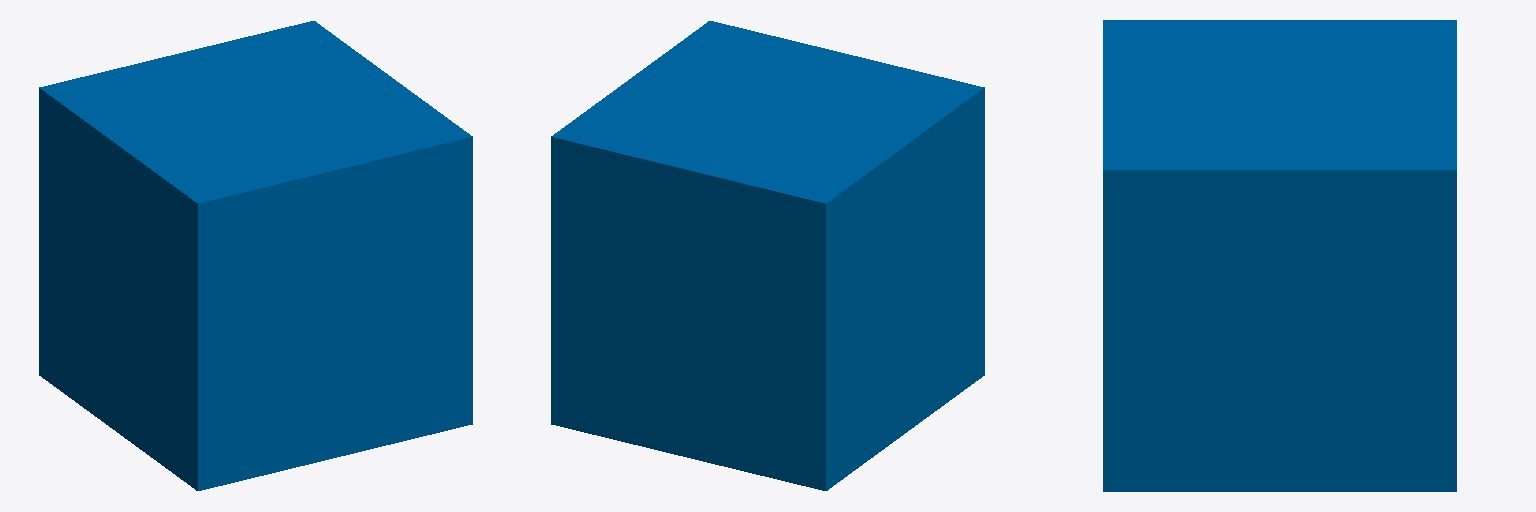
robot.urdf — ur10:
<?xml version="1.0" ?>
<!-- =================================================================================== -->
<!-- |    This document was autogenerated by xacro from urdf/ur10_robot.urdf.xacro     | -->
<!-- |    EDITING THIS FILE BY HAND IS NOT RECOMMENDED                                 | -->
<!-- =================================================================================== -->
<robot name="ur10" xmlns:xacro="http://www.ros.org/wiki/xacro">
  <!-- common stuff -->
  <gazebo>
    <plugin filename="libgazebo_ros_control.so" name="ros_control">
      <!--robotNamespace>/</robotNamespace-->
      <!--robotSimType>gazebo_ros_control/DefaultRobotHWSim</robotSimType-->
    </plugin>
    <!--
    <plugin name="gazebo_ros_power_monitor_controller" filename="libgazebo_ros_power_monitor.so">
      <alwaysOn>true</alwaysOn>
      <updateRate>1.0</updateRate>
      <timeout>5</timeout>
      <powerStateTopic>power_state</powerStateTopic>
      <powerStateRate>10.0</powerStateRate>
      <fullChargeCapacity>87.78</fullChargeCapacity>     
      <dischargeRate>-474</dischargeRate>
      <chargeRate>525</chargeRate>
      <dischargeVoltage>15.52</dischargeVoltage>
      <chargeVoltage>16.41</chargeVoltage>
    </plugin>
-->
  </gazebo>
  <!-- ur10 -->
  <!-- arm -->
  <link name="base_link">
    <visual>
      <geometry>
        <mesh filename="./meshes/visual/Base.dae"/>
      </geometry>
    </visual>
    <collision>
      <geometry>
        <mesh filename="./meshes/collision/Base.dae"/>
      </geometry>
    </collision>
    <inertial>
      <mass value="4.0"/>
      <origin rpy="0 0 0" xyz="0.0 0.0 0.0"/>
      <inertia ixx="0.0061063308908" ixy="0.0" ixz="0.0" iyy="0.0061063308908" iyz="0.0" izz="0.01125"/>
    </inertial>
  </link>
  <joint name="shoulder_pan_joint" type="revolute">
    <parent link="base_link"/>
    <child link="shoulder_link"/>
    <origin rpy="0.0 0.0 0.0" xyz="0.0 0.0 0.1273"/>
    <axis xyz="0 0 1"/>
    <limit effort="330.0" lower="-6.2831853" upper="6.2831853" velocity="2.16"/>
    <dynamics damping="0.0" friction="0.0"/>
  </joint>
  <link name="shoulder_link">
    <visual>
      <geometry>
        <mesh filename="./meshes/visual/Shoulder.dae"/>
      </geometry>
    </visual>
    <collision>
      <geometry>
        <mesh filename="./meshes/collision/Shoulder.dae"/>
      </geometry>
    </collision>
    <inertial>
      <mass value="7.778"/>
      <origin rpy="0 0 0" xyz="0.0 0.0 0.0"/>
      <inertia ixx="0.0314743125769" ixy="0.0" ixz="0.0" iyy="0.0314743125769" iyz="0.0" izz="0.021875625"/>
    </inertial>
  </link>
  <joint name="shoulder_lift_joint" type="revolute">
    <parent link="shoulder_link"/>
    <child link="upper_arm_link"/>
    <origin rpy="0.0 1.570796325 0.0" xyz="0.0 0.220941 0.0"/>
    <axis xyz="0 1 0"/>
    <limit effort="330.0" lower="-6.2831853" upper="6.2831853" velocity="2.16"/>
    <dynamics damping="0.0" friction="0.0"/>
  </joint>
  <link name="upper_arm_link">
    <visual>
      <geometry>
        <mesh filename="./meshes/visual/UpperArm.dae"/>
      </geometry>
    </visual>
    <collision>
      <geometry>
        <mesh filename="./meshes/collision/UpperArm.dae"/>
      </geometry>
    </collision>
    <inertial>
      <mass value="12.93"/>
      <origin rpy="0 0 0" xyz="0.0 0.0 0.306"/>
      <inertia ixx="0.421753803798" ixy="0.0" ixz="0.0" iyy="0.421753803798" iyz="0.0" izz="0.036365625"/>
    </inertial>
  </link>
  <joint name="elbow_joint" type="revolute">
    <parent link="upper_arm_link"/>
    <child link="forearm_link"/>
    <origin rpy="0.0 0.0 0.0" xyz="0.0 -0.1719 0.612"/>
    <axis xyz="0 1 0"/>
    <limit effort="150.0" lower="-6.2831853" upper="6.2831853" velocity="3.15"/>
    <dynamics damping="0.0" friction="0.0"/>
  </joint>
  <link name="forearm_link">
    <visual>
      <geometry>
        <mesh filename="./meshes/visual/Forearm.dae"/>
      </geometry>
    </visual>
    <collision>
      <geometry>
        <mesh filename="./meshes/collision/Forearm.dae"/>
      </geometry>
    </collision>
    <inertial>
      <mass value="3.87"/>
      <origin rpy="0 0 0" xyz="0.0 0.0 0.28615"/>
      <inertia ixx="0.111069694097" ixy="0.0" ixz="0.0" iyy="0.111069694097" iyz="0.0" izz="0.010884375"/>
    </inertial>
  </link>
  <joint name="wrist_1_joint" type="revolute">
    <parent link="forearm_link"/>
    <child link="wrist_1_link"/>
    <origin rpy="0.0 1.570796325 0.0" xyz="0.0 0.0 0.5723"/>
    <axis xyz="0 1 0"/>
    <limit effort="54.0" lower="-6.2831853" upper="6.2831853" velocity="3.2"/>
    <dynamics damping="0.0" friction="0.0"/>
  </joint>
  <link name="wrist_1_link">
    <visual>
      <geometry>
        <mesh filename="./meshes/visual/Wrist1.dae"/>
      </geometry>
    </visual>
    <collision>
      <geometry>
        <mesh filename="./meshes/collision/Wrist1.dae"/>
      </geometry>
    </collision>
    <inertial>
      <mass value="1.96"/>
      <origin rpy="0 0 0" xyz="0.0 0.0 0.0"/>
      <inertia ixx="0.0051082479567" ixy="0.0" ixz="0.0" iyy="0.0051082479567" iyz="0.0" izz="0.0055125"/>
    </inertial>
  </link>
  <joint name="wrist_2_joint" type="revolute">
    <parent link="wrist_1_link"/>
    <child link="wrist_2_link"/>
    <origin rpy="0.0 0.0 0.0" xyz="0.0 0.1149 0.0"/>
    <axis xyz="0 0 1"/>
    <limit effort="54.0" lower="-6.2831853" upper="6.2831853" velocity="3.2"/>
    <dynamics damping="0.0" friction="0.0"/>
  </joint>
  <link name="wrist_2_link">
    <visual>
      <geometry>
        <mesh filename="./meshes/visual/Wrist2.dae"/>
      </geometry>
    </visual>
    <collision>
      <geometry>
        <mesh filename="./meshes/collision/Wrist2.dae"/>
      </geometry>
    </collision>
    <inertial>
      <mass value="1.96"/>
      <origin rpy="0 0 0" xyz="0.0 0.0 0.0"/>
      <inertia ixx="0.0051082479567" ixy="0.0" ixz="0.0" iyy="0.0051082479567" iyz="0.0" izz="0.0055125"/>
    </inertial>
  </link>
  <joint name="wrist_3_joint" type="revolute">
    <parent link="wrist_2_link"/>
    <child link="wrist_3_link"/>
    <origin rpy="0.0 0.0 0.0" xyz="0.0 0.0 0.1157"/>
    <axis xyz="0 1 0"/>
    <limit effort="54.0" lower="-6.2831853" upper="6.2831853" velocity="3.2"/>
    <dynamics damping="0.0" friction="0.0"/>
  </joint>
  <link name="wrist_3_link">
    <visual>
      <geometry>
        <mesh filename="./meshes/visual/Wrist3.dae"/>
      </geometry>
    </visual>
    <collision>
      <geometry>
        <mesh filename="./meshes/collision/Wrist3.dae"/>
      </geometry>
    </collision>
    <inertial>
      <mass value="0.202"/>
      <origin rpy="0 0 0" xyz="0.0 0.0 0.0"/>
      <inertia ixx="0.000526462289415" ixy="0.0" ixz="0.0" iyy="0.000526462289415" iyz="0.0" izz="0.000568125"/>
    </inertial>
  </link>
  <joint name="ee_fixed_joint" type="fixed">
    <parent link="wrist_3_link"/>
    <child link="ee_link"/>
    <origin rpy="0.0 0.0 1.57079632679" xyz="0.0 0.0922 0.0"/>
  </joint>
  <link name="ee_link">
    <collision>
      <geometry>
        <box size="0.01 0.01 0.01"/>
      </geometry>
      <origin rpy="0 0 0" xyz="-0.01 0 0"/>
    </collision>
  </link>
  <transmission name="shoulder_pan_trans">
    <type>transmission_interface/SimpleTransmission</type>
    <joint name="shoulder_pan_joint">
      <hardwareInterface>hardware_interface/PositionJointInterface</hardwareInterface>
    </joint>
    <actuator name="shoulder_pan_motor">
      <mechanicalReduction>1</mechanicalReduction>
    </actuator>
  </transmission>
  <transmission name="shoulder_lift_trans">
    <type>transmission_interface/SimpleTransmission</type>
    <joint name="shoulder_lift_joint">
      <hardwareInterface>hardware_interface/PositionJointInterface</hardwareInterface>
    </joint>
    <actuator name="shoulder_lift_motor">
      <mechanicalReduction>1</mechanicalReduction>
    </actuator>
  </transmission>
  <transmission name="elbow_trans">
    <type>transmission_interface/SimpleTransmission</type>
    <joint name="elbow_joint">
      <hardwareInterface>hardware_interface/PositionJointInterface</hardwareInterface>
    </joint>
    <actuator name="elbow_motor">
      <mechanicalReduction>1</mechanicalReduction>
    </actuator>
  </transmission>
  <transmission name="wrist_1_trans">
    <type>transmission_interface/SimpleTransmission</type>
    <joint name="wrist_1_joint">
      <hardwareInterface>hardware_interface/PositionJointInterface</hardwareInterface>
    </joint>
    <actuator name="wrist_1_motor">
      <mechanicalReduction>1</mechanicalReduction>
    </actuator>
  </transmission>
  <transmission name="wrist_2_trans">
    <type>transmission_interface/SimpleTransmission</type>
    <joint name="wrist_2_joint">
      <hardwareInterface>hardware_interface/PositionJointInterface</hardwareInterface>
    </joint>
    <actuator name="wrist_2_motor">
      <mechanicalReduction>1</mechanicalReduction>
    </actuator>
  </transmission>
  <transmission name="wrist_3_trans">
    <type>transmission_interface/SimpleTransmission</type>
    <joint name="wrist_3_joint">
      <hardwareInterface>hardware_interface/PositionJointInterface</hardwareInterface>
    </joint>
    <actuator name="wrist_3_motor">
      <mechanicalReduction>1</mechanicalReduction>
    </actuator>
  </transmission>
  <!-- ROS base_link to UR 'Base' Coordinates transform -->
  <link name="robot_base"/>
  <joint name="robot_base_link-base_fixed_joint" type="fixed">
    <!-- NOTE: this rotation is only needed as long as base_link itself is
                 not corrected wrt the real robot (ie: rotated over 180
                 degrees)
      -->
    <origin rpy="0 0 -3.14159265359" xyz="0 0 0"/>
    <parent link="base_link"/>
    <child link="robot_base"/>
  </joint>
  <!-- Frame coincident with all-zeros TCP on UR controller -->
  <link name="tool0"/>
  <joint name="wrist_3_link-tool0_fixed_joint" type="fixed">
    <origin rpy="-1.57079632679 0 0" xyz="0 0.0922 0"/>
    <parent link="wrist_3_link"/>
    <child link="tool0"/>
  </joint>

  <link name="robotiq_coupler">
    <visual>
      <geometry>
        <mesh filename="./meshes/robotiq2f85/robotiq_85_coupler.stl" />
      </geometry>
    </visual>
    <collision>
      <geometry>
        <mesh filename="./meshes/robotiq2f85/robotiq_85_coupler.stl" />
      </geometry>
    </collision>
    <inertial>
      <origin xyz="2.073e-05   1.45286e-03  -1.1049e-03" rpy="0 0 0" />
      <mass value="0.168" />
      <inertia ixx="6.69695624e-05" ixy="5.21511788e-09" ixz="-2.74383009e-08" 
              iyy="7.85088161e-05" iyz="5.41105193e-07" izz="1.41819717e-04"/>
    </inertial>
  </link>

  <joint name="robotiq_coupler_joint" type="fixed">
    <origin xyz="0 0 0.004" rpy="0 0 -1.57079632679" />
    <parent link="tool0"/>
    <child link="robotiq_coupler"/>
  </joint>


  <!-- Robotiq: base_link -->
  <link name="robotiq_85_base_link">
    <visual>
      <geometry>
        <!-- <mesh filename="./meshes/robotiq2f85/visual/robotiq_85_base_link.dae"/> -->
        <mesh filename="./meshes/robotiq2f85/visual/robotiq_85_base_link.dae"/>
      </geometry>
    </visual>
    <collision>
      <geometry>
        <mesh filename="./meshes/robotiq2f85/collision/robotiq_85_base_link.stl"/>
      </geometry>
    </collision>
    <inertial>
      <mass value="0.636951" />
      <origin xyz="0.0 0.0 0.0" />
      <inertia ixx = "0.000380" ixy = "0.000000" ixz = "0.000000"
          iyx = "0.000000" iyy = "0.001110" iyz = "0.000000"
          izx = "0.000000" izy = "0.000000" izz = "0.001171" />
    </inertial>
  </link>

  <joint name="robotiq_85_base_joint" type="fixed">
    <origin xyz="0 0 0.004" rpy="0 -1.57079632679 3.141592653"/>
    <parent link="robotiq_coupler"/>
    <child link="robotiq_85_base_link"/>
  </joint>

  <!-- Robotiq: left_knuckle -->
  <link name="robotiq_85_left_knuckle_link">
    <visual>
      <geometry>
        <mesh filename="./meshes/robotiq2f85/visual/robotiq_85_knuckle_link.dae"/>
        <!-- <mesh filename="./meshes/robotiq2f85/outer_knuckle_coarse.stl"/> -->
      </geometry>
    </visual>
    <collision>
      <geometry>
        <mesh filename="./meshes/robotiq2f85/collision/robotiq_85_knuckle_link.stl"/>
        <!-- <mesh filename="./meshes/robotiq2f85/outer_knuckle_coarse.stl"/> -->
      </geometry>
    </collision>
    <inertial>
      <mass value="0.018491" />
      <origin xyz="0.0 0.0 0.0" />
      <inertia ixx = "0.000009" ixy = "-0.000001" ixz = "0.000000"
          iyx = "-0.000001" iyy = "0.000001" iyz = "0.000000"
          izx = "0.000000" izy = "0.000000" izz = "0.000010" />
    </inertial>
  </link>

  <joint name="robotiq_85_left_knuckle_joint" type="revolute">
    <parent link="robotiq_85_base_link"/>
    <child link="robotiq_85_left_knuckle_link"/>
    <axis xyz="0 0 1"/>
    <origin rpy="3.141592653 0.0 0.0" xyz="0.05490451627 0.03060114443 0.0"/>
    <limit lower="-0.05" upper="0.80285" velocity="0.5" effort="1000"/>
    <dynamics damping="1.0" friction="1.0"/>
  </joint>

  <!-- Robotiq: right_knuckle -->
  <link name="robotiq_85_right_knuckle_link">
    <visual>
      <geometry>
        <!-- <mesh filename="./meshes/robotiq2f85/visual/robotiq_85_knuckle_link.dae"/> -->
        <mesh filename="./meshes/robotiq2f85/outer_knuckle_coarse.stl"/>
      </geometry>
    </visual>
    <collision>
      <geometry>
        <!-- <mesh filename="./meshes/robotiq2f85/collision/robotiq_85_knuckle_link.stl"/> -->
        <mesh filename="./meshes/robotiq2f85/outer_knuckle_coarse.stl"/>
      </geometry>
    </collision>
    <inertial>
      <mass value="0.018491" />
      <origin xyz="0.0 0.0 0.0" />
      <inertia ixx = "0.000009" ixy = "-0.000001" ixz = "0.000000"
          iyx = "-0.000001" iyy = "0.000001" iyz = "0.000000"
          izx = "0.000000" izy = "0.000000" izz = "0.000010" />
    </inertial>
  </link>

  <joint name="robotiq_85_right_knuckle_joint" type="continuous">
    <parent link="robotiq_85_base_link"/>
    <child link="robotiq_85_right_knuckle_link"/>
    <axis xyz="0 0 1"/>
    <origin rpy="0.0 0.0 0.0" xyz="0.05490451627 -0.03060114443 0.0"/>
    <limit lower="-0.05" upper="0.80285" velocity="0.5" effort="1000"/>
    <dynamics damping="1.0" friction="1.0"/>
  </joint>

  <!-- Robotiq: left_finger -->
  <link name="robotiq_85_left_finger_link">
    <visual>
      <geometry>
        <mesh filename="./meshes/robotiq2f85/visual/robotiq_85_finger_link.dae"/>
      </geometry>
    </visual>
    <collision>
      <geometry>
        <mesh filename="./meshes/robotiq2f85/collision/robotiq_85_finger_link.stl"/>
      </geometry>
    </collision>
    <inertial>
      <mass value="0.027309" />
      <origin xyz="0.0 0.0 0.0" />
      <inertia ixx = "0.000003" ixy = "-0.000002" ixz = "0.000000"
          iyx = "-0.000002" iyy = "0.000021" iyz = "0.000000"
          izx = "0.000000" izy = "0.000000" izz = "0.000020" />
    </inertial>
  </link>

  <joint name="robotiq_85_left_finger_joint" type="fixed">
    <parent link="robotiq_85_left_knuckle_link"/>
    <child link="robotiq_85_left_finger_link"/>
    <origin xyz="-0.00408552455 -0.03148604435 0.0" rpy="0 0 0" />
    <dynamics damping="1.0" friction="1.0"/>
  </joint>

  <!-- Robotiq: right_finger -->
  <link name="robotiq_85_right_finger_link">
    <visual>
      <geometry>
        <mesh filename="./meshes/robotiq2f85/visual/robotiq_85_finger_link.dae"/>
      </geometry>
    </visual>
    <collision>
      <geometry>
        <mesh filename="./meshes/robotiq2f85/collision/robotiq_85_finger_link.stl"/>
      </geometry>
    </collision>
    <inertial>
      <mass value="0.027309" />
      <origin xyz="0.0 0.0 0.0" />
      <inertia ixx = "0.000003" ixy = "-0.000002" ixz = "0.000000"
          iyx = "-0.000002" iyy = "0.000021" iyz = "0.000000"
          izx = "0.000000" izy = "0.000000" izz = "0.000020" />
    </inertial>
  </link>

  <joint name="robotiq_85_right_finger_joint" type="fixed">
    <parent link="robotiq_85_right_knuckle_link"/>
    <child link="robotiq_85_right_finger_link"/>
    <origin xyz="-0.00408552455 -0.03148604435 0.0" rpy="0 0 0" />
    <dynamics damping="1.0" friction="1.0"/>
  </joint>

  <!-- Robotiq: left_inner_knuckle -->
  <link name="robotiq_85_left_inner_knuckle_link">
    <visual>
      <geometry>
        <mesh filename="./meshes/robotiq2f85/visual/robotiq_85_inner_knuckle_link.dae"/>
      </geometry>
    </visual>
    <collision>
      <geometry>
        <mesh filename="./meshes/robotiq2f85/collision/robotiq_85_inner_knuckle_link.stl"/>
      </geometry>
    </collision>
    <inertial>
      <mass value="0.029951" />
      <origin xyz="0.0 0.0 0.0" />
      <inertia ixx = "0.000039" ixy = "0.000000" ixz = "0.000000"
          iyx = "0.000000" iyy = "0.000005" iyz = "0.000000"
          izx = "0.000000" izy = "0.000000" izz = "0.000035" />
    </inertial>
  </link>

  <joint name="robotiq_85_left_inner_knuckle_joint" type="continuous">
    <parent link="robotiq_85_base_link"/>
    <child link="robotiq_85_left_inner_knuckle_link"/>
    <axis xyz="0 0 1"/>
    <origin xyz="0.06142 0.0127 0" rpy="3.141592654 0.0 0.0" />
    <limit lower="-0.05" upper="0.80285" velocity="0.5" effort="1000"/>
    <dynamics damping="1.0" friction="1.0"/>
  </joint>

  <!-- Robotiq: right_inner_knuckle -->
  <link name="robotiq_85_right_inner_knuckle_link">
    <visual>
      <geometry>
        <mesh filename="./meshes/robotiq2f85/visual/robotiq_85_inner_knuckle_link.dae"/>
      </geometry>
    </visual>
    <collision>
      <geometry>
        <mesh filename="./meshes/robotiq2f85/collision/robotiq_85_inner_knuckle_link.stl"/>
      </geometry>
    </collision>
    <inertial>
      <mass value="0.029951" />
      <origin xyz="0.0 0.0 0.0" />
      <inertia ixx = "0.000039" ixy = "0.000000" ixz = "0.000000"
          iyx = "0.000000" iyy = "0.000005" iyz = "0.000000"
          izx = "0.000000" izy = "0.000000" izz = "0.000035" />
    </inertial>
  </link>

  <joint name="robotiq_85_right_inner_knuckle_joint" type="continuous">
    <parent link="robotiq_85_base_link"/>
    <child link="robotiq_85_right_inner_knuckle_link"/>
    <axis xyz="0 0 1"/>
    <origin xyz="0.06142 -0.0127 0" rpy="0 0 0"/>
    <limit lower="-0.05" upper="0.80285" velocity="0.5" effort="1000"/>
    <dynamics damping="1.0" friction="1.0"/>
  </joint>

  <!-- Robotiq: left_finger_tip -->
  <link name="robotiq_85_left_finger_tip_link">
    <visual>
      <geometry>
        <mesh filename="./meshes/robotiq2f85/visual/robotiq_85_finger_tip_link.dae"/>
      </geometry>
    </visual>
    <collision>
      <geometry>
        <mesh filename="./meshes/robotiq2f85/collision/robotiq_85_finger_tip_link.stl"/>
      </geometry>
    </collision>
    <inertial>
      <mass value="0.019555" />
      <origin xyz="0.0 0.0 0.0" />
      <inertia ixx = "0.000002" ixy = "0.000000" ixz = "0.000000"
          iyx = "0.000000" iyy = "0.000005" iyz = "0.000000"
          izx = "0.000000" izy = "0.000000" izz = "0.000006" />
    </inertial>
  </link> 

  <joint name="robotiq_85_left_finger_tip_joint" type="continuous">
    <parent link="robotiq_85_left_inner_knuckle_link"/>
    <child link="robotiq_85_left_finger_tip_link"/>
    <axis xyz="0 0 1"/>
    <origin xyz="0.04303959807 -0.03759940821 0.0" rpy="0.0 0.0 0.0"/>
    <limit lower="-0.80285" upper="0.05" velocity="0.5" effort="1000"/>
    <dynamics damping="1.0" friction="1.0"/>
  </joint>

  <!-- Robotiq: right_finger_tip -->
  <link name="robotiq_85_right_finger_tip_link">
    <visual>
      <geometry>
        <mesh filename="./meshes/robotiq2f85/visual/robotiq_85_finger_tip_link.dae"/>
      </geometry>
    </visual>
    <collision>
      <geometry>
        <mesh filename="./meshes/robotiq2f85/collision/robotiq_85_finger_tip_link.stl"/>
      </geometry>
    </collision>
    <inertial>
      <mass value="0.019555" />
      <origin xyz="0.0 0.0 0.0" />
      <inertia ixx = "0.000002" ixy = "0.000000" ixz = "0.000000"
          iyx = "0.000000" iyy = "0.000005" iyz = "0.000000"
          izx = "0.000000" izy = "0.000000" izz = "0.000006" />
    </inertial>
  </link>

  <joint name="robotiq_85_right_finger_tip_joint" type="continuous">
    <parent link="robotiq_85_right_inner_knuckle_link"/>
    <child link="robotiq_85_right_finger_tip_link"/>
    <axis xyz="0 0 1"/>
    <origin rpy="0.0 0.0 0.0" xyz="0.04303959807 -0.03759940821  0.0"/>
    <limit lower="-0.80285" upper="0.05" velocity="0.5" effort="1000"/>
    <dynamics damping="1.0" friction="1.0"/>
  </joint>

  <!-- SMALL CUBE FOR GRIPPER PLUGIN -->

  <link name="EE_robotiq_2f85">
    <inertial>
      <origin xyz="0 0 0" rpy="0 0 0" />
      <mass value="0.00001" />
      <inertia ixx="0.001" ixy="0.0" ixz="0.0" iyy="0.001" iyz="0.0" izz="0.001"/>
    </inertial>
    <visual>
      <geometry>
        <box size= "0.001 0.001 0.001" />
      </geometry>
    </visual>
  </link>

  <joint name="EE_robotiq_2f85_joint" type="prismatic" >
    <parent link="robotiq_85_base_link" />
    <child link="EE_robotiq_2f85" />
    <limit effort="10000" lower="0.0" upper="0.0" velocity="0.0"/>
    <axis xyz="1 0 0" />
    <origin xyz="0.128 0.0 0.0" rpy="0 0 0"/>
  </joint>

  <link name="world"/>
  <joint name="world_joint" type="fixed">
    <parent link="world"/>
    <child link="base_link"/>
    <origin rpy="0.0 0.0 0.0" xyz="0.0 0.0 0.0"/>
  </joint>
</robot>

--- What the picture shows (computed from the rendered views, not written in the file) ---
Views: 3 orthographic renders of the robot side by side, from view 1: azimuth 30°, elevation 25°; view 2: azimuth 150°, elevation 25°; view 3: azimuth 270°, elevation 25°.
Robot: ur10 — 22 links, 21 joints (7 revolute, 5 continuous, 1 prismatic, 8 fixed); root link world; default pose: all joints at 0.
Visible links, largest first — view 1: EE_robotiq_2f85; view 2: EE_robotiq_2f85; view 3: EE_robotiq_2f85.
Link boxes in pixels (x1,y1,x2,y2): EE_robotiq_2f85: (39, 21, 472, 490); EE_robotiq_2f85: (551, 21, 984, 490); EE_robotiq_2f85: (1103, 20, 1456, 491).
Size in the robot's own frame: 0.001 by 0.001 by 0.001 metres.
0 mesh visuals loaded from 14 distinct referenced files (none loaded); not drawn: 17 (reference not matched to a file when rendering).